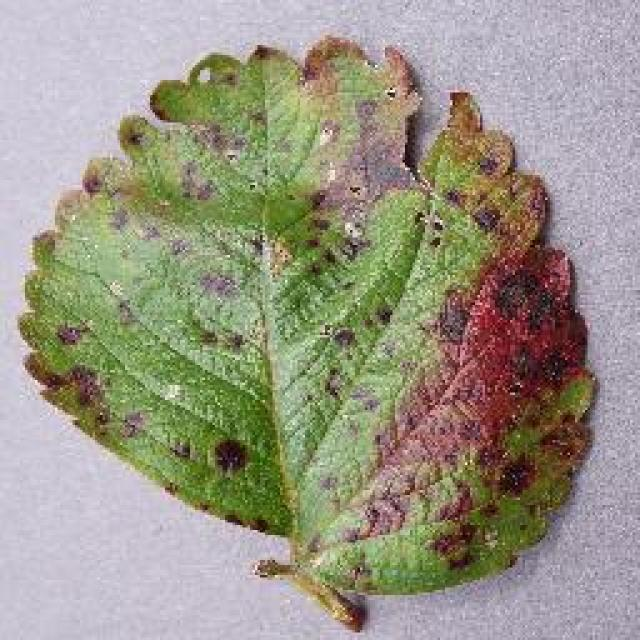Strawberry___Leaf_scorch: (117, 152, 579, 550)
